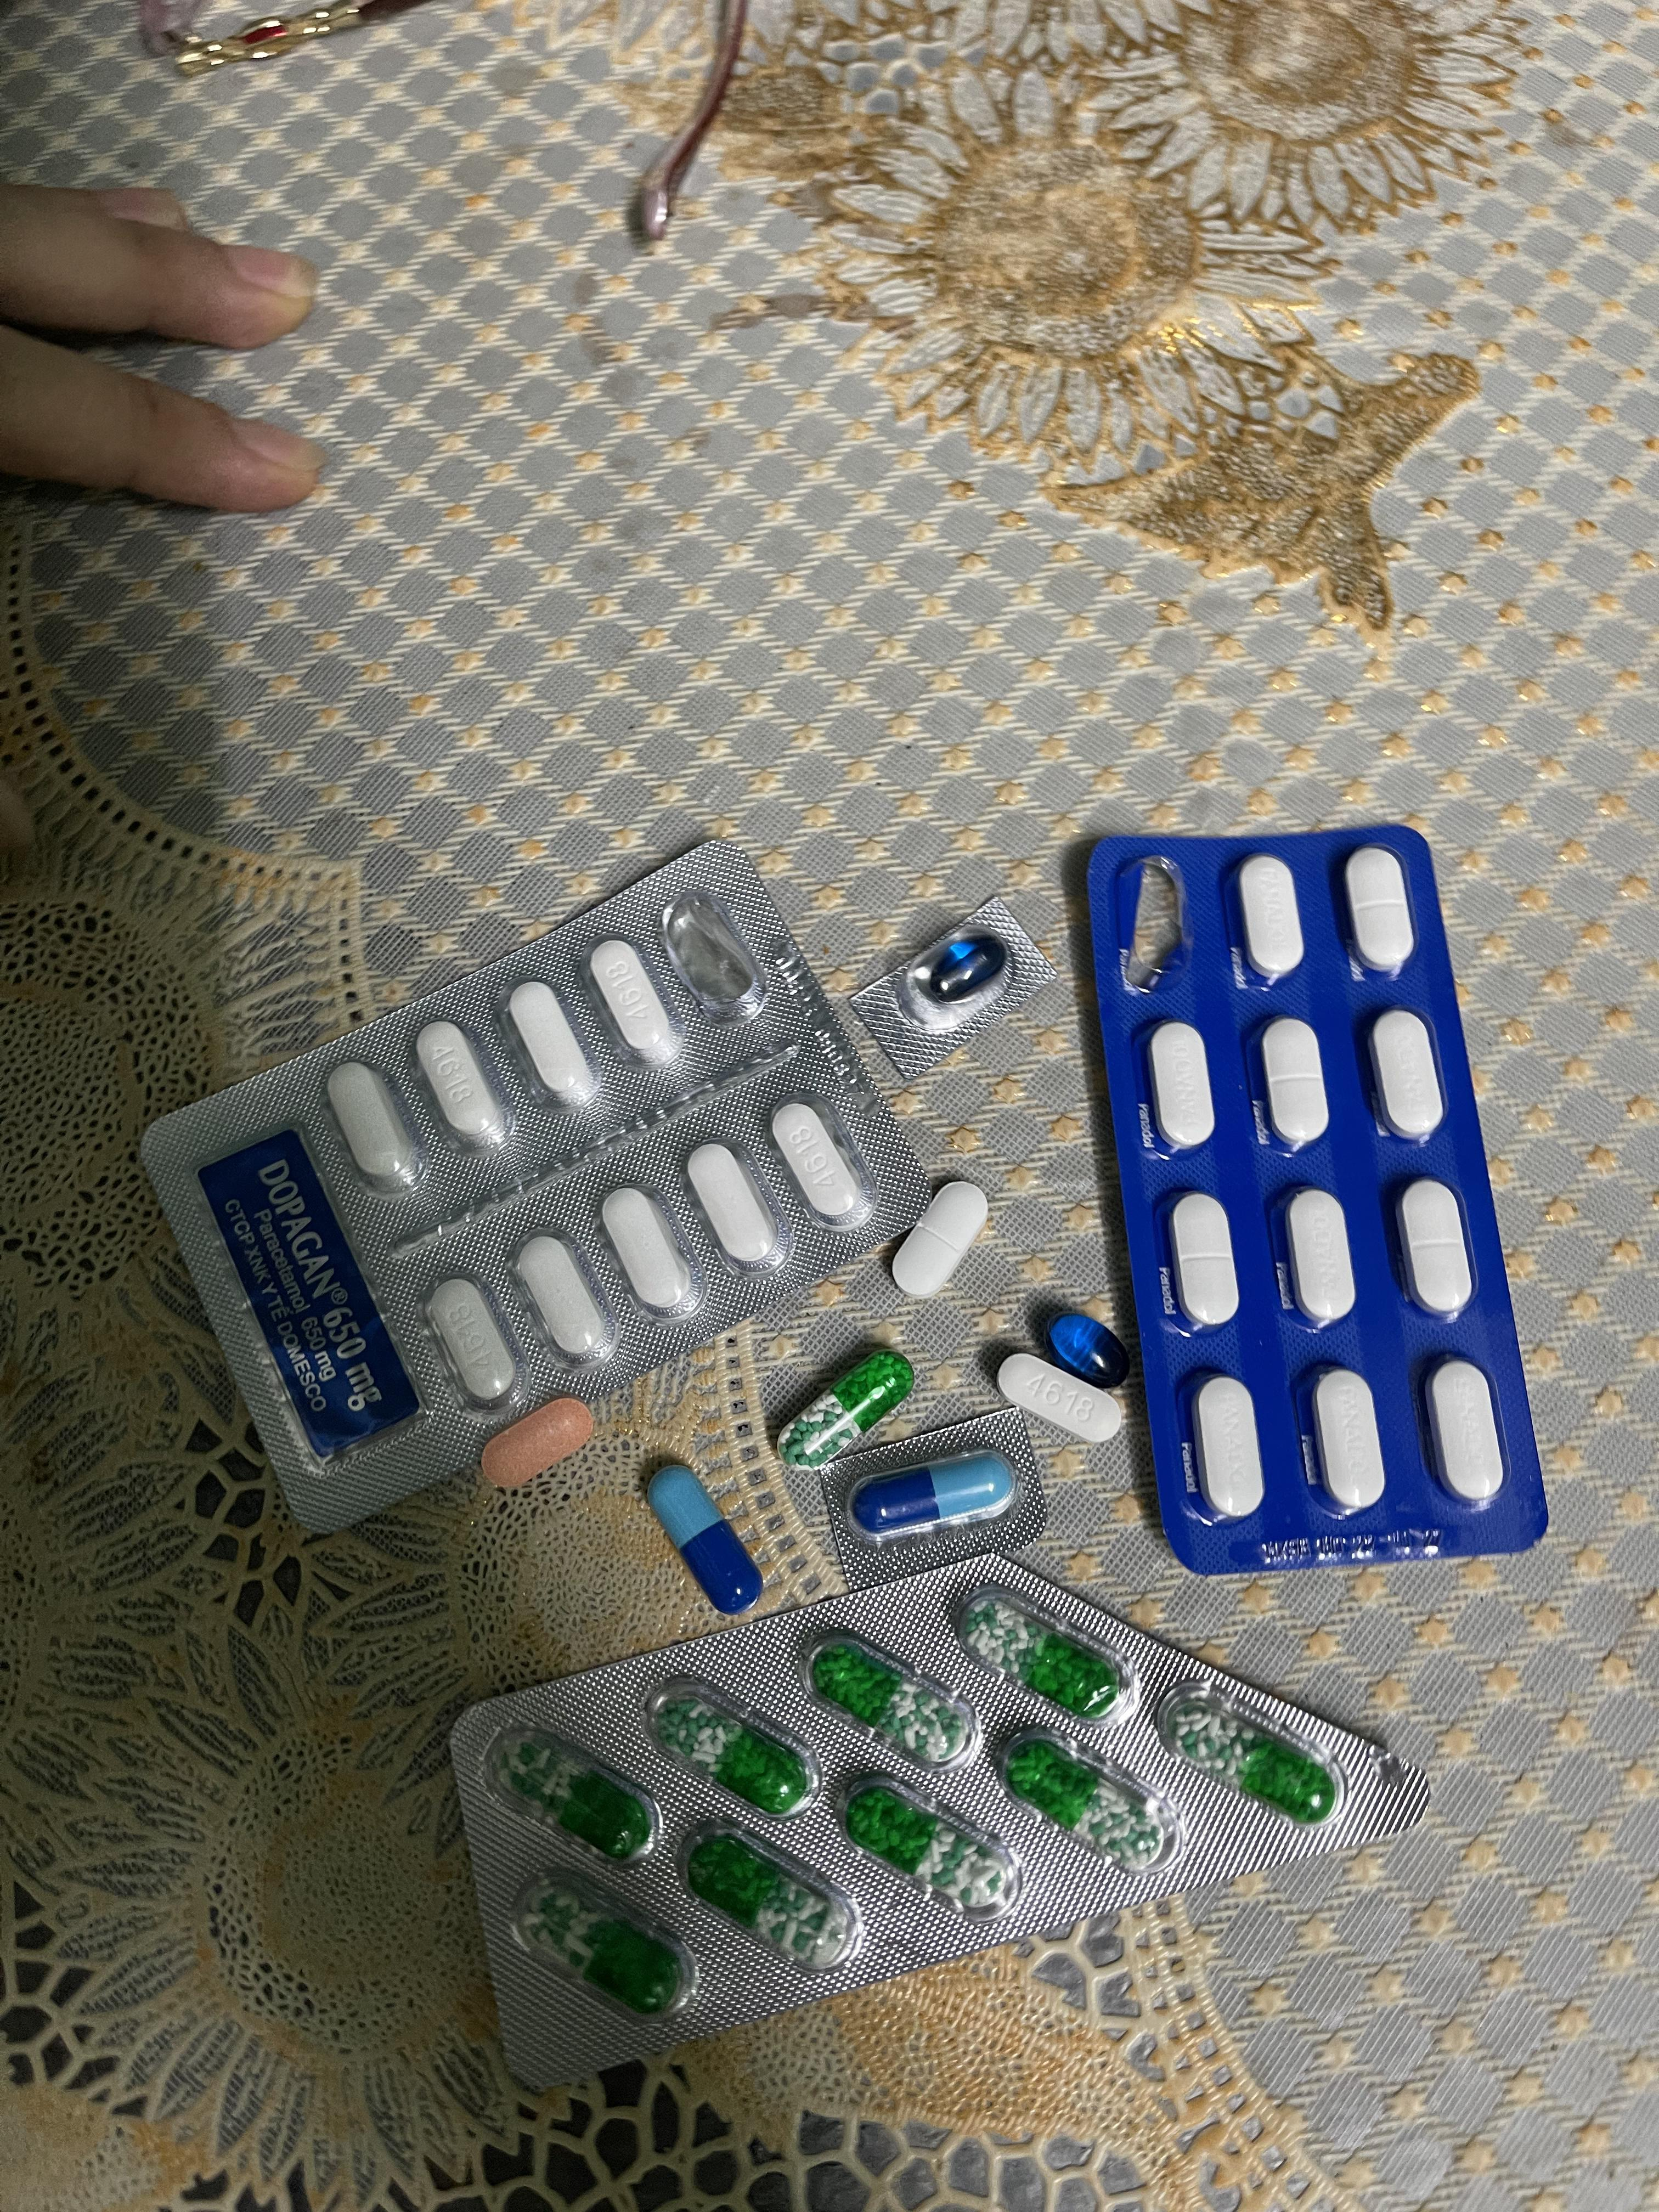Lincomyxin_500mg: (1046, 1312, 1133, 1390), (917, 934, 1007, 1007)
Loratadine_10mg: (481, 1397, 596, 1489)
Paracetamol_350mg: (889, 1177, 992, 1296), (1424, 1359, 1506, 1503), (1309, 1369, 1389, 1514), (1396, 1177, 1474, 1317), (1192, 1378, 1267, 1522), (1284, 1190, 1358, 1331), (1368, 1010, 1446, 1141), (1168, 1195, 1241, 1334), (1145, 1022, 1216, 1155), (1260, 1019, 1330, 1153), (1344, 846, 1415, 975), (1237, 855, 1305, 981)
Paracetamol_500mg: (507, 981, 603, 1116), (413, 1022, 511, 1155), (514, 1233, 610, 1366), (772, 1101, 870, 1230), (997, 1352, 1124, 1444), (591, 941, 680, 1069), (601, 1188, 694, 1312), (326, 1057, 418, 1179), (425, 1277, 518, 1399), (688, 1139, 777, 1264)
Paracetamol_650mg: (683, 1815, 859, 1975), (1169, 1681, 1347, 1836), (836, 1768, 1018, 1919), (511, 1871, 697, 2017), (1006, 1719, 1173, 1876), (652, 1677, 821, 1817), (488, 1723, 659, 1858), (812, 1627, 983, 1763), (958, 1576, 1127, 1710), (777, 1348, 918, 1472)
pill: (647, 1463, 765, 1615), (847, 1451, 1021, 1545)
